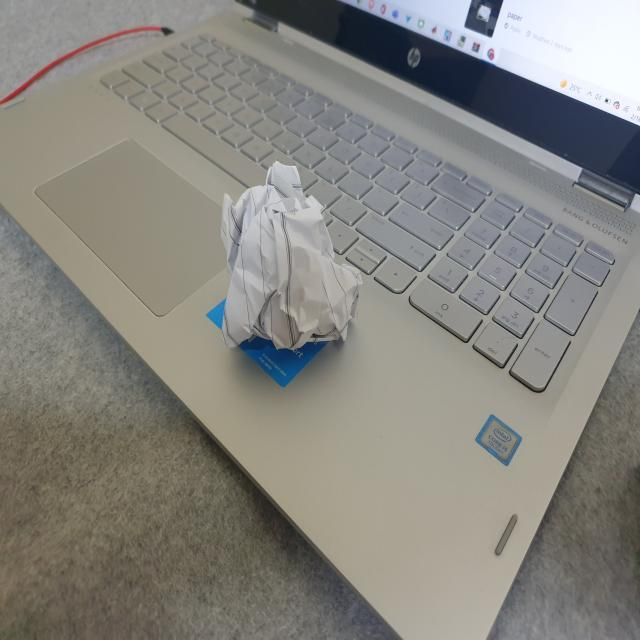Paper: (218, 164, 360, 347)
